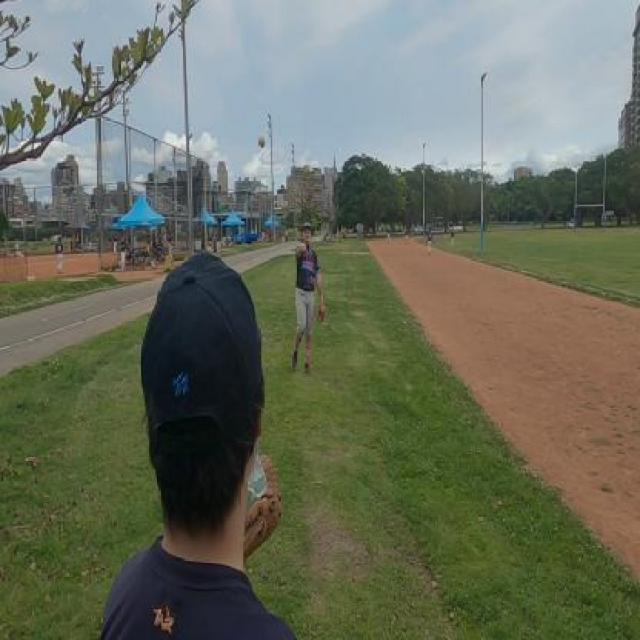baseball: (258, 134, 265, 148)
